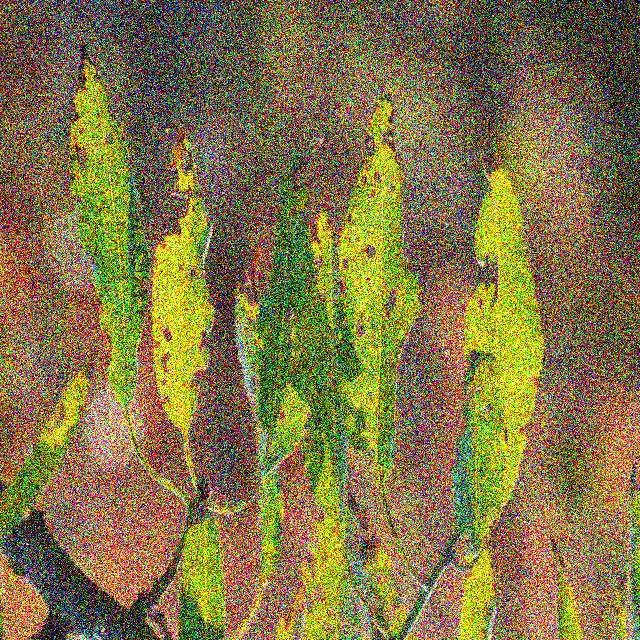shot_hole: (12, 15, 228, 457), (262, 54, 440, 495)
